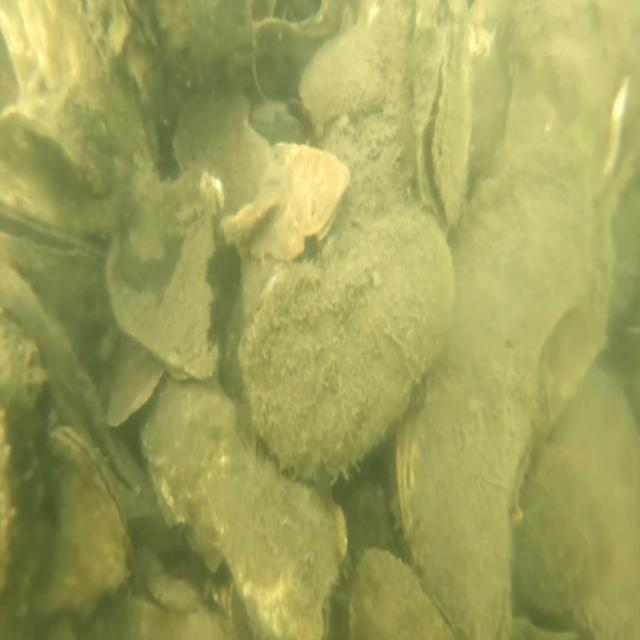Oyster-Closed: (234, 142, 353, 269), (48, 419, 132, 592), (94, 0, 164, 96)
Oyster-Indeterminate: (401, 144, 619, 636), (241, 208, 456, 474), (136, 386, 349, 636), (519, 356, 640, 640), (104, 160, 230, 378), (170, 92, 283, 238), (352, 536, 456, 640), (0, 95, 99, 189), (301, 28, 392, 127), (160, 0, 254, 95), (100, 335, 165, 429)
Oyster-Open: (408, 2, 472, 226), (0, 196, 108, 276)
